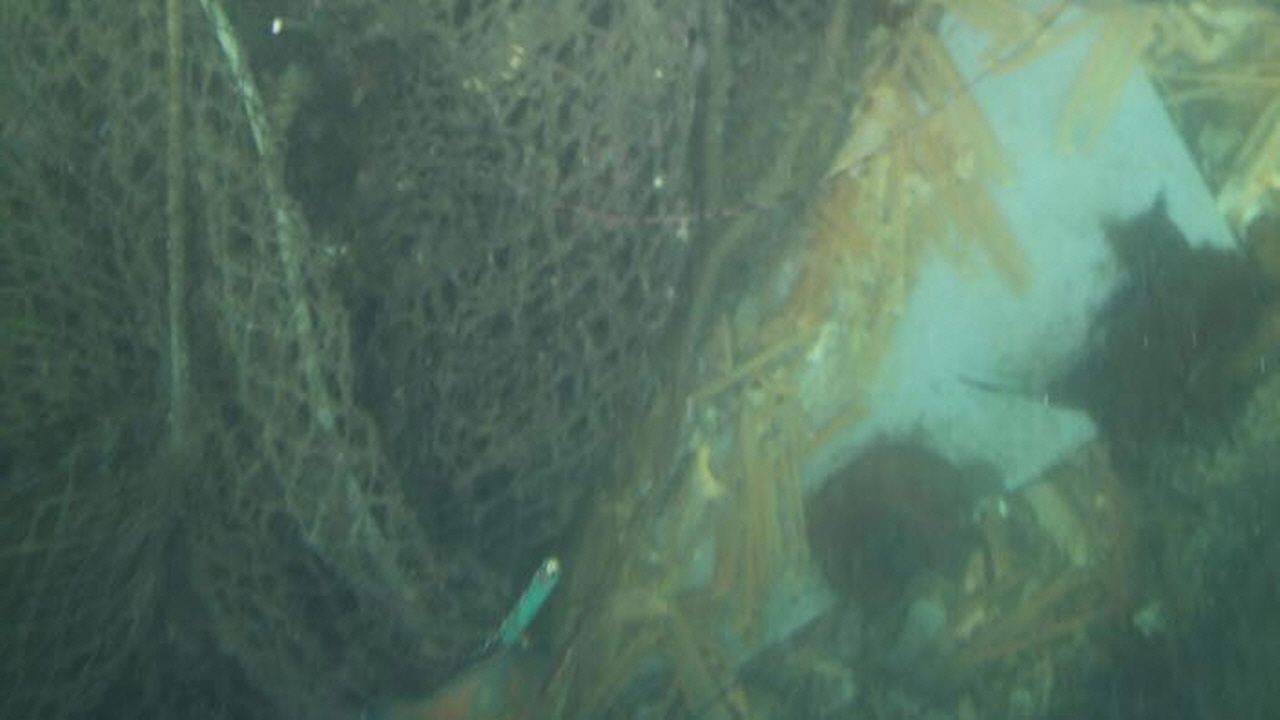fish net: (0, 1, 845, 720)
